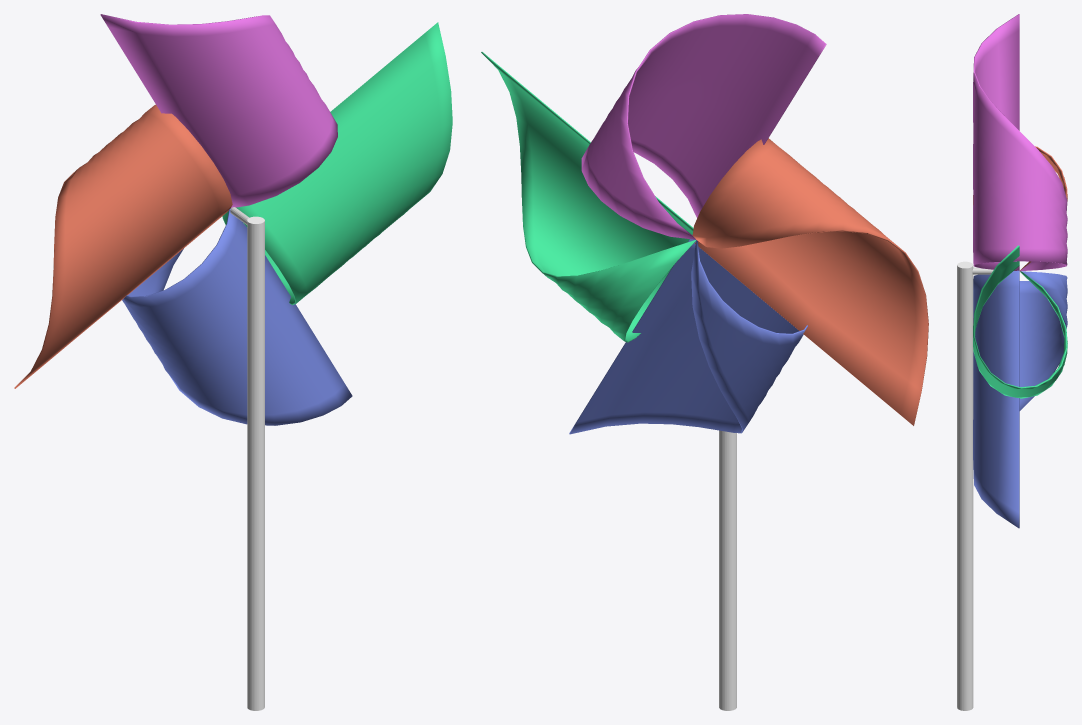
The model's file is windmill_Final.fbx.
3 views of the same model, side by side, from view 1: azimuth 30°, elevation 25°; view 2: azimuth 150°, elevation 25°; view 3: azimuth 270°, elevation 25° (orthographic). The views are drawn at different scales.
Parts seen in each view (by area): view 1: 平面.002, 柱体; view 2: 平面.002, 柱体; view 3: 平面.002, 柱体.
Boxes of the visible parts, x1,y1,x2,y2 form: 平面.002: [14, 14, 452, 425]; 柱体: [247, 216, 264, 710]; 平面.002: [481, 14, 928, 434]; 柱体: [719, 430, 736, 710]; 平面.002: [973, 14, 1067, 528]; 柱体: [957, 261, 973, 710].
Bounding box in the file's own units: 344 × 545 × 85.69.
